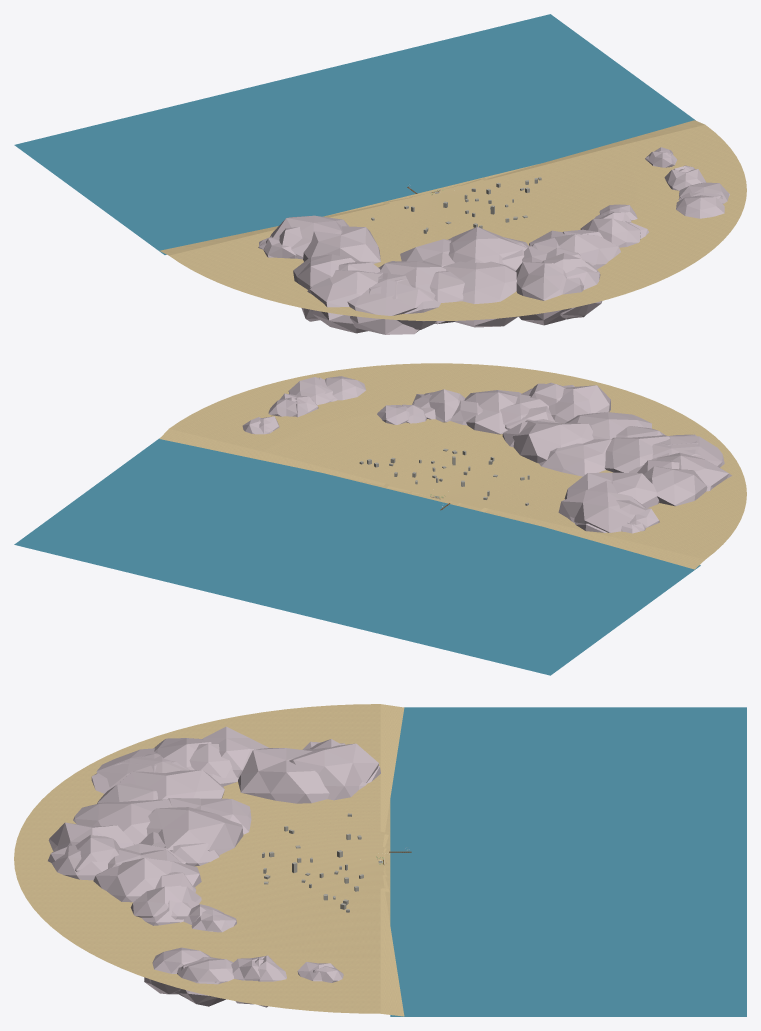
Rendered from boardwalk.glb.
The picture shows the model from 3 angles, top to bottom: view 1: azimuth 30°, elevation 25°; view 2: azimuth 150°, elevation 25°; view 3: azimuth 270°, elevation 25°; orthographic projection. The views are drawn at different scales.
Visible parts, largest first — view 1: M_Water, M_Sand_Far, M_Mountain_Far, M_Facade_Stucco; view 2: M_Water, M_Sand_Far, M_Mountain_Far, M_Facade_Stucco; view 3: M_Water, M_Sand_Far, M_Mountain_Far, M_Facade_Stucco.
Part boxes in pixels (x1,y1,x2,y2): M_Water: (14,14,695,254); M_Sand_Far: (159,120,746,320); M_Mountain_Far: (258,147,729,334); M_Facade_Stucco: (371,177,541,233); M_Water: (14,438,700,675); M_Sand_Far: (159,363,746,569); M_Mountain_Far: (242,376,731,533); M_Facade_Stucco: (359,448,529,505); M_Water: (390,707,746,1016); M_Sand_Far: (14,704,404,1016); M_Mountain_Far: (48,726,380,1007); M_Facade_Stucco: (262,813,363,912).
Size of the model in its own units: 5200 by 602 by 5200.
27 materials, 11 textured.
